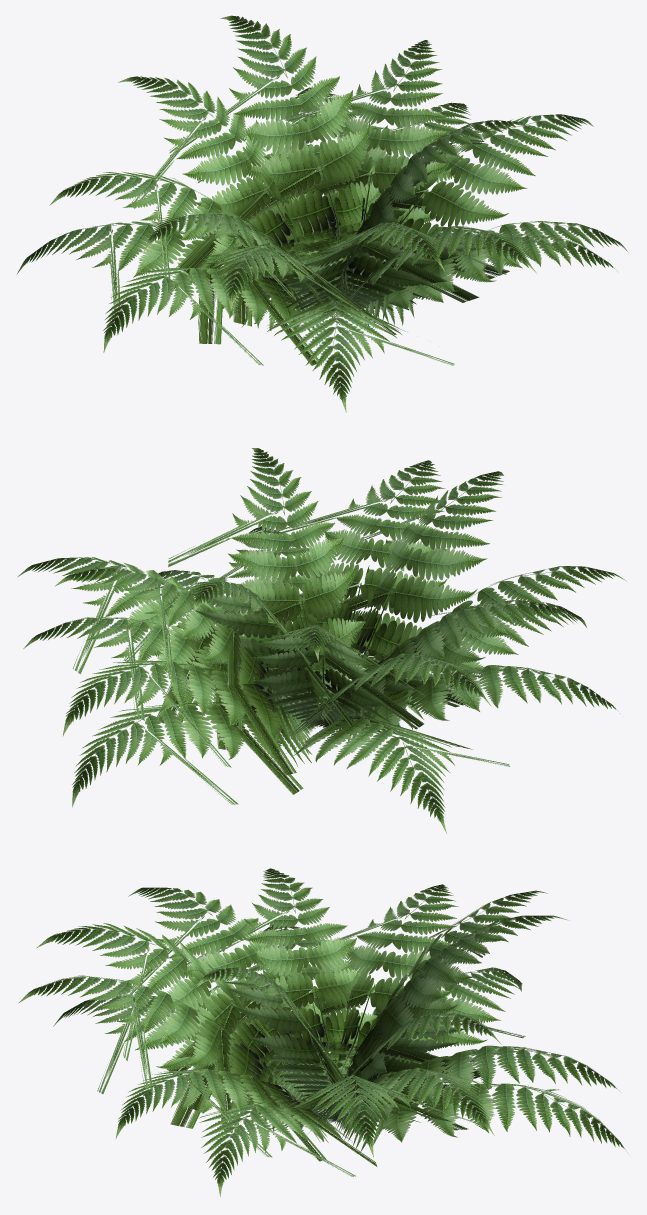
The model's file is fern-f.glb.
3 renders of one model, top to bottom at view 1: azimuth 30°, elevation 25°; view 2: azimuth 150°, elevation 25°; view 3: azimuth 270°, elevation 25°, orthographic.
Visible parts, largest first — view 1: fern-f; view 2: fern-f; view 3: fern-f.
Boxes of the visible parts, bbox=[...] form: fern-f: bbox=[17, 15, 628, 412]; fern-f: bbox=[17, 448, 626, 833]; fern-f: bbox=[18, 868, 627, 1196].
Size of the model in its own units: 1.92 by 0.694 by 1.86.
Materials: 1 (1 with a texture image).
